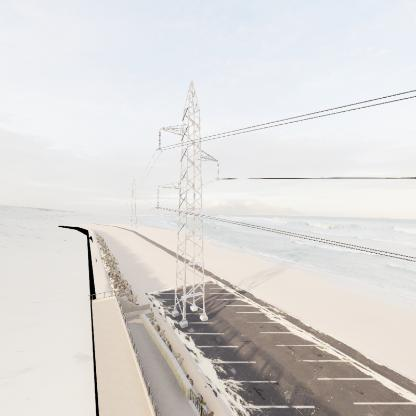tower: (154, 79, 223, 326)
